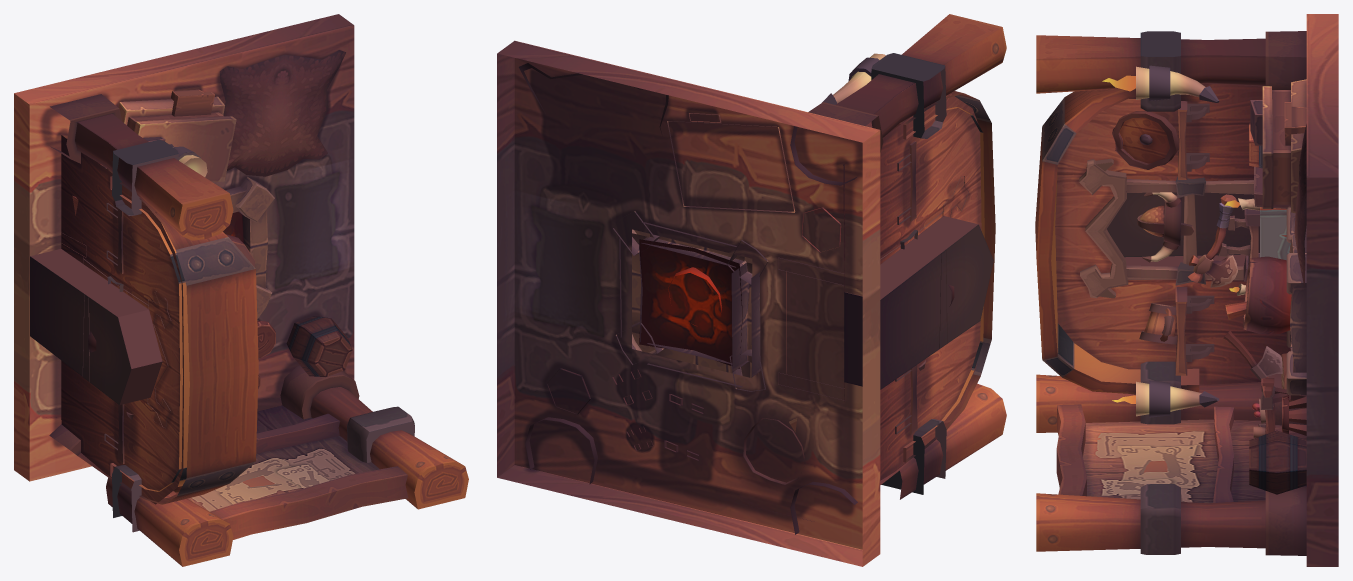
The model's file is viking_room.obj.
3 views of the same model, side by side, from view 1: azimuth 30°, elevation 25°; view 2: azimuth 150°, elevation 25°; view 3: azimuth 270°, elevation 25° (orthographic). The views are drawn at different scales.
Visible parts, largest first — view 1: mesh_all1_Texture1_0; view 2: mesh_all1_Texture1_0; view 3: mesh_all1_Texture1_0.
Part boxes in pixels (<box>): mesh_all1_Texture1_0: <box>14,14,468,566</box>; mesh_all1_Texture1_0: <box>497,14,1006,566</box>; mesh_all1_Texture1_0: <box>1035,14,1338,566</box>.
Bounding box in the file's own units: 1.33 × 1.46 × 1.03.
